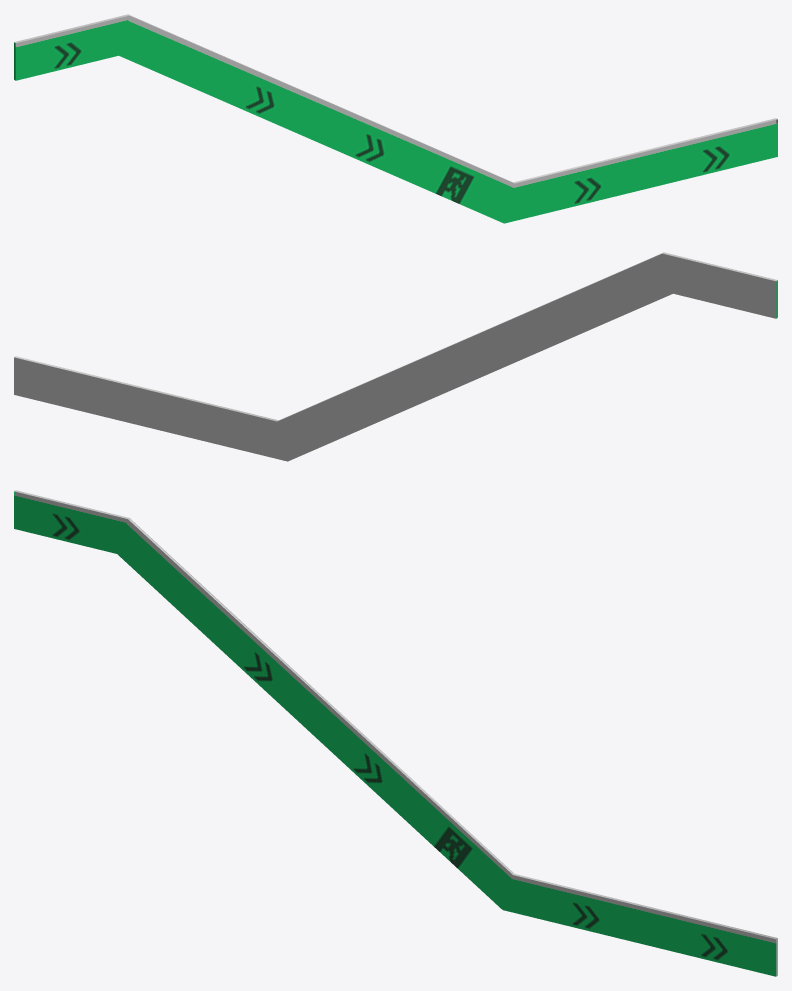
File: Emergency_Exit_Curve.fbx
The picture shows the model from 3 angles, top to bottom: view 1: azimuth 30°, elevation 25°; view 2: azimuth 150°, elevation 25°; view 3: azimuth 330°, elevation 25°; orthographic projection.
Visible parts, largest first — view 1: Emergency_Exit__7_.002; view 2: Emergency_Exit__7_.002; view 3: Emergency_Exit__7_.002.
Boxes of the visible parts, x1,y1,x2,y2 form: Emergency_Exit__7_.002: [14, 14, 777, 223]; Emergency_Exit__7_.002: [14, 252, 777, 461]; Emergency_Exit__7_.002: [14, 490, 777, 976].
Bounding box in the file's own units: 511 × 192 × 2.
